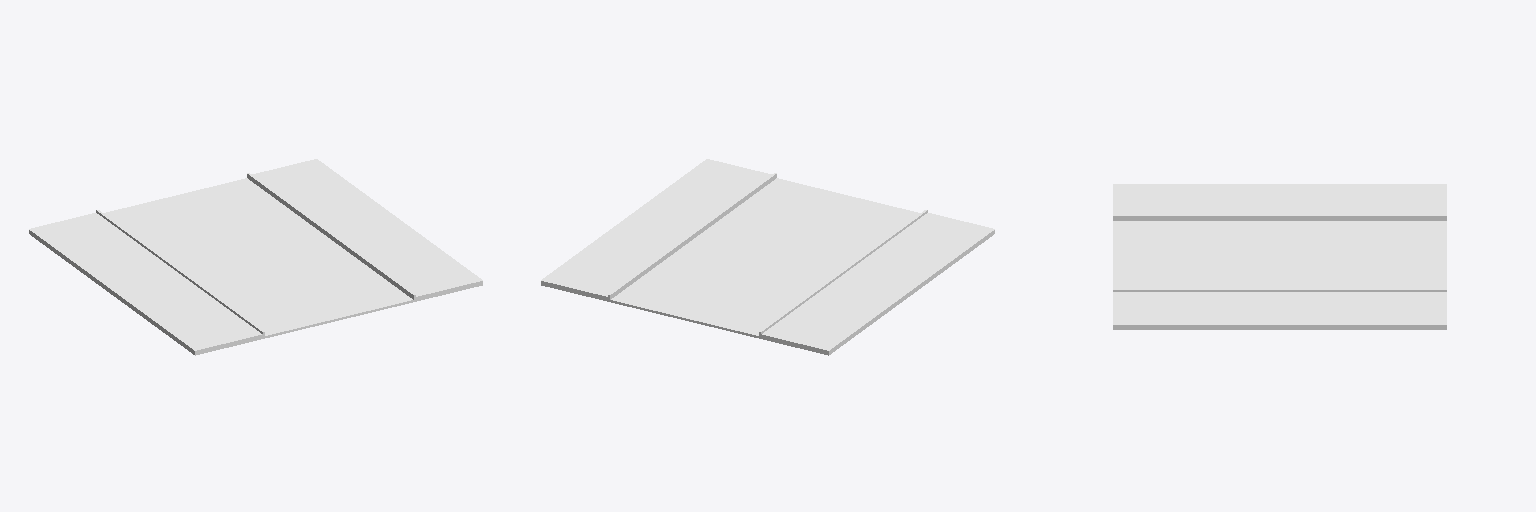
Rendered from GDS2_Flooring-15.obj.
3 views of the same model, side by side, from view 1: azimuth 30°, elevation 25°; view 2: azimuth 150°, elevation 25°; view 3: azimuth 270°, elevation 25° (orthographic).
Visible parts, largest first — view 1: GDS2_Flooring-15; view 2: GDS2_Flooring-15; view 3: GDS2_Flooring-15.
Part boxes in pixels (left/top/right/bottom): GDS2_Flooring-15: left=29, top=159, right=482, bottom=355; GDS2_Flooring-15: left=541, top=159, right=994, bottom=355; GDS2_Flooring-15: left=1113, top=184, right=1446, bottom=329.
Size of the model in its own units: 12.8 by 0.3 by 12.8.